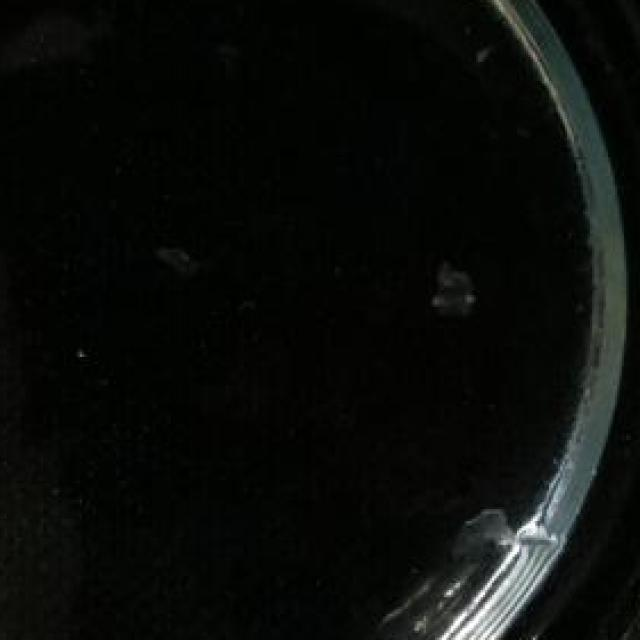Microplastic: (5, 14, 104, 67), (419, 257, 481, 324), (152, 226, 212, 293)
